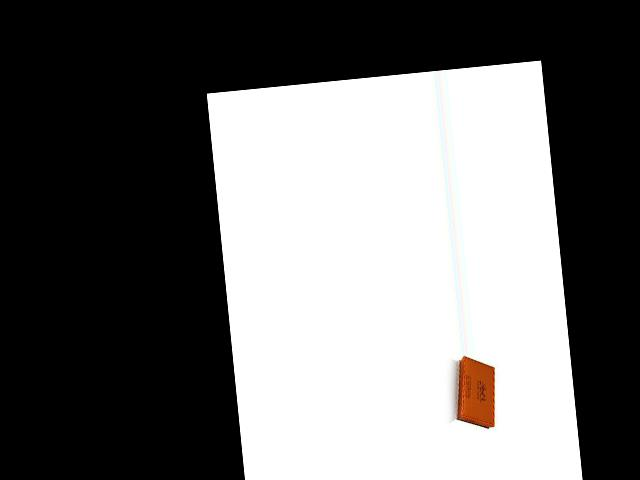chocolate: (445, 353, 502, 433)
